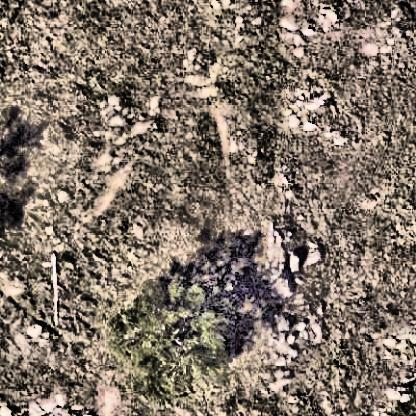tree-top: (100, 272, 242, 400)
